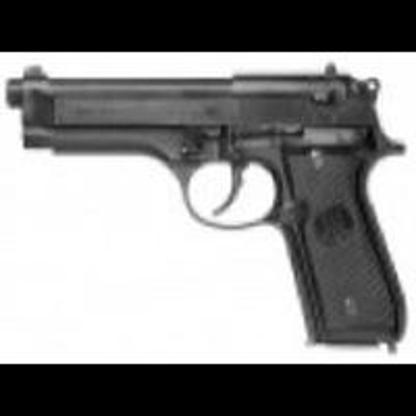weapon: (7, 57, 406, 360)
